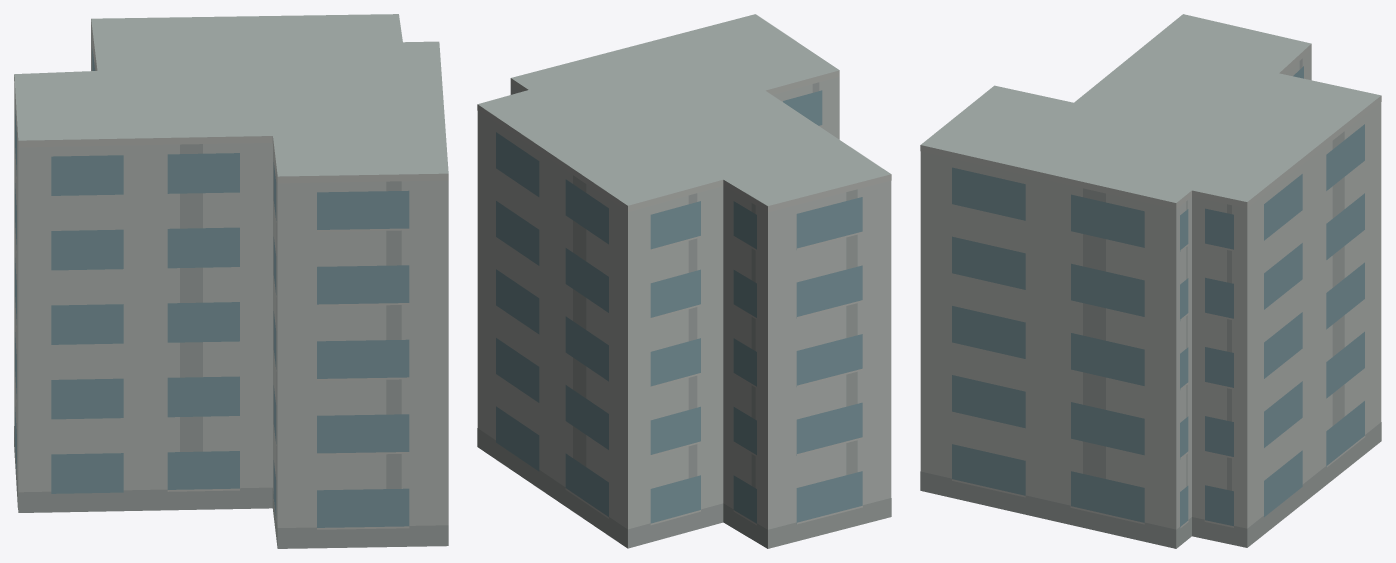
File: survey-upis-32491588.glb
The picture shows the model from 3 angles, left to right: view 1: azimuth 30°, elevation 25°; view 2: azimuth 150°, elevation 25°; view 3: azimuth 270°, elevation 25°; orthographic projection. The views are drawn at different scales.
Visible parts, largest first — view 1: survey-upis-32491588.tmp; view 2: survey-upis-32491588.tmp; view 3: survey-upis-32491588.tmp.
Part boxes in pixels (<box>): survey-upis-32491588.tmp: <box>14,14,448,548</box>; survey-upis-32491588.tmp: <box>477,14,891,548</box>; survey-upis-32491588.tmp: <box>920,14,1381,548</box>.
Size of the model in its own units: 15.49 by 13.2 by 15.96.
